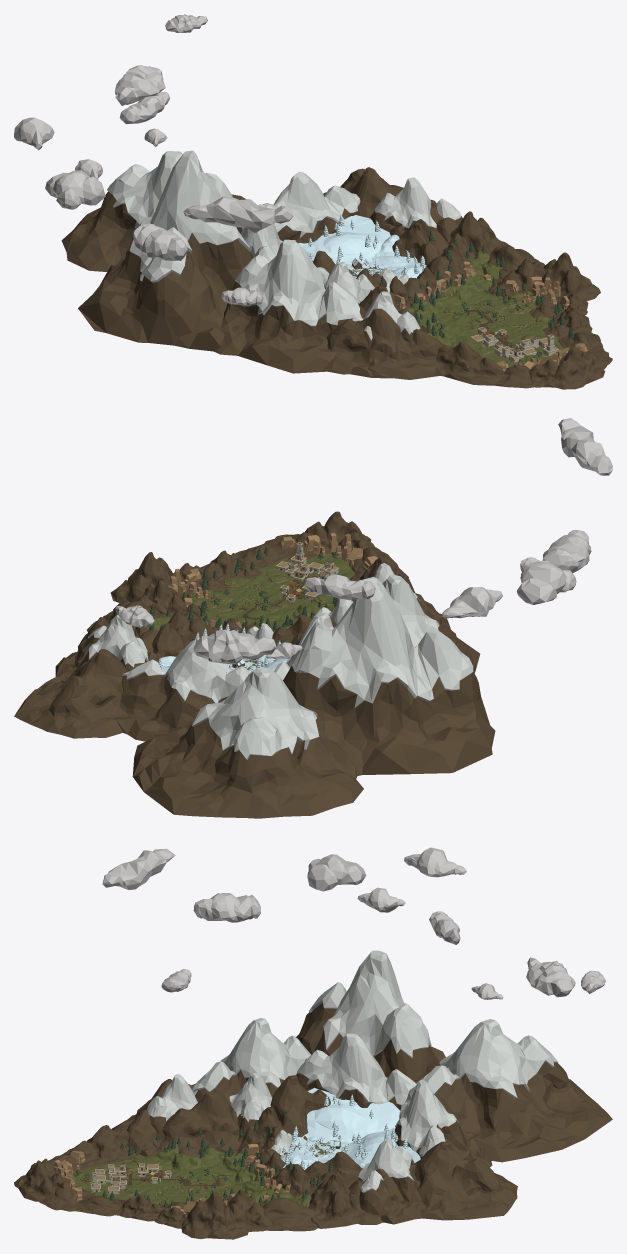
The model's file is adventure_demo.gltf.
3 renders of one model, top to bottom at view 1: azimuth 30°, elevation 25°; view 2: azimuth 150°, elevation 25°; view 3: azimuth 270°, elevation 25°, orthographic. The views are drawn at different scales.
Visible parts, largest first — view 1: SM_Env_HillSnow_5, SM_Env_HillSnow_04_408, SM_Env_HillSnow_6, SM_Env_Hill_376, SM_Env_HillSnow_7, SM_Env_HillSnow_11, SM_Env_Cloud_02_419, SM_Env_SnowPile_2, SM_Env_Hill_13, SM_Env_Cloud_07_434, SM_Env_Hill_18, SM_Env_HillSnow_10 (+19 smaller); view 2: SM_Env_HillSnow_5, SM_Env_HillSnow_6, SM_Env_HillSnow_7, SM_Env_Hill_18, SM_Env_HillSnow_11, SM_Env_Cloud_05_428, SM_Env_HillSnow_04_408, SM_Env_Cloud_07_434, SM_Env_Cloud_02_419, SM_Env_Hill_6, SM_Env_Cloud_04_425, SM_Env_Cloud_01_416 (+8 smaller); view 3: SM_Env_HillSnow_6, SM_Env_HillSnow_5, SM_Env_Hill_18, SM_Env_HillSnow_8, SM_Env_HillSnow_04_408, SM_Env_HillSnow_7, SM_Env_HillSnow_11, SM_Env_Hill_20, SM_Env_SnowPile_3, SM_Env_Hill_6, SM_Env_Hill_22, SM_Env_Hill_16 (+23 smaller).
Part boxes in pixels (<box>): SM_Env_HillSnow_5: <box>78,150,253,351</box>; SM_Env_HillSnow_04_408: <box>214,239,365,373</box>; SM_Env_HillSnow_6: <box>61,151,245,271</box>; SM_Env_Hill_376: <box>323,308,452,379</box>; SM_Env_HillSnow_7: <box>263,172,360,243</box>; SM_Env_HillSnow_11: <box>370,177,462,231</box>; SM_Env_Cloud_02_419: <box>183,196,293,232</box>; SM_Env_SnowPile_2: <box>297,215,390,264</box>; SM_Env_Hill_13: <box>434,342,503,385</box>; SM_Env_Cloud_07_434: <box>45,170,105,209</box>; SM_Env_Hill_18: <box>323,167,403,231</box>; SM_Env_HillSnow_10: <box>346,291,420,378</box>; SM_Env_HillSnow_5: <box>283,577,495,775</box>; SM_Env_HillSnow_6: <box>132,667,363,818</box>; SM_Env_HillSnow_7: <box>112,638,250,741</box>; SM_Env_Hill_18: <box>14,649,148,738</box>; SM_Env_HillSnow_11: <box>55,615,148,682</box>; SM_Env_Cloud_05_428: <box>193,629,276,664</box>; SM_Env_HillSnow_04_408: <box>382,574,480,673</box>; SM_Env_Cloud_07_434: <box>517,561,576,604</box>; SM_Env_Cloud_02_419: <box>558,418,612,475</box>; SM_Env_Hill_6: <box>110,552,188,603</box>; SM_Env_Cloud_04_425: <box>542,530,591,572</box>; SM_Env_Cloud_01_416: <box>304,574,375,600</box>; SM_Env_HillSnow_6: <box>416,1019,612,1162</box>; SM_Env_HillSnow_5: <box>296,950,445,1082</box>; SM_Env_Hill_18: <box>410,1141,517,1220</box>; SM_Env_HillSnow_8: <box>296,1033,416,1110</box>; SM_Env_HillSnow_04_408: <box>191,1018,311,1106</box>; SM_Env_HillSnow_7: <box>395,1079,492,1167</box>; SM_Env_HillSnow_11: <box>358,1138,431,1224</box>; SM_Env_Hill_20: <box>157,1091,240,1157</box>; SM_Env_SnowPile_3: <box>302,1087,400,1143</box>; SM_Env_Hill_6: <box>181,1191,249,1239</box>; SM_Env_Hill_22: <box>237,1075,330,1140</box>; SM_Env_Hill_16: <box>308,1173,359,1228</box>.
Bounding box in the file's own units: 344 × 145 × 389.
Materials: 1 (1 with a texture image).
